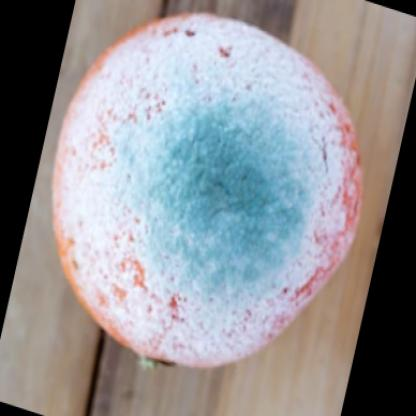rotten: (54, 9, 362, 364)
